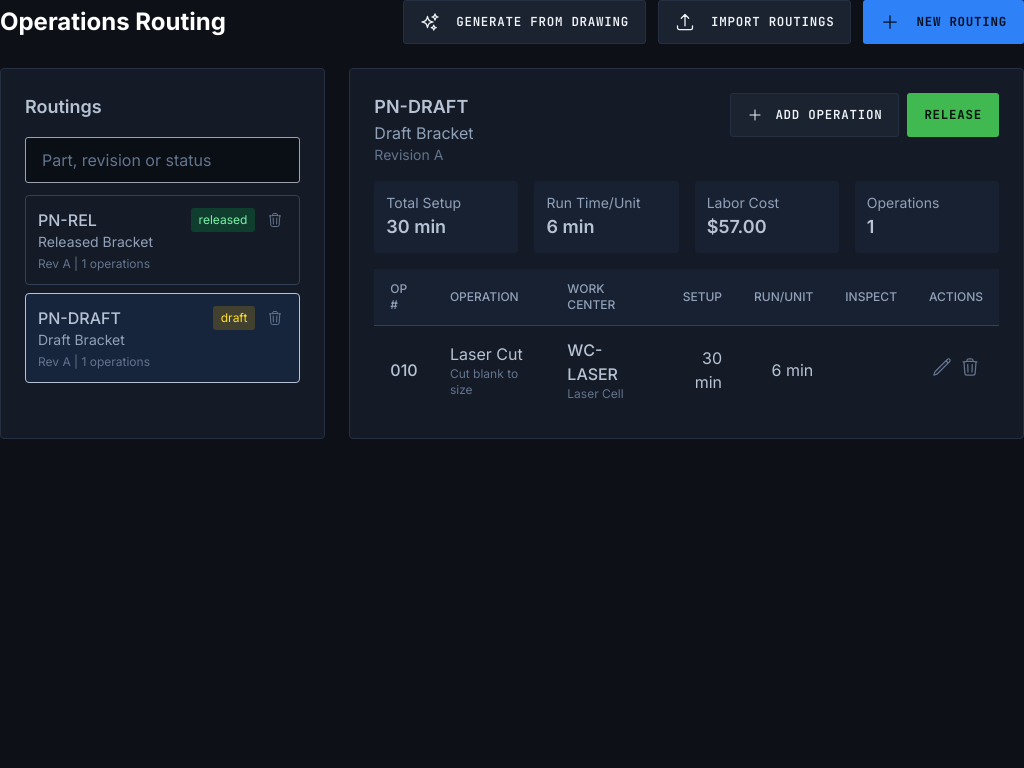
it: Routing — released time-standard editing › draft routing still shows full Edit + Delete controls and the full modal
Expected: the text "Laser Cut" is shown, [450,342,535,366]
Expected: the button titled "Delete operation" is shown, [960,357,980,377]
Click the button titled "Edit operation" at (942, 367), box [932,357,952,377]
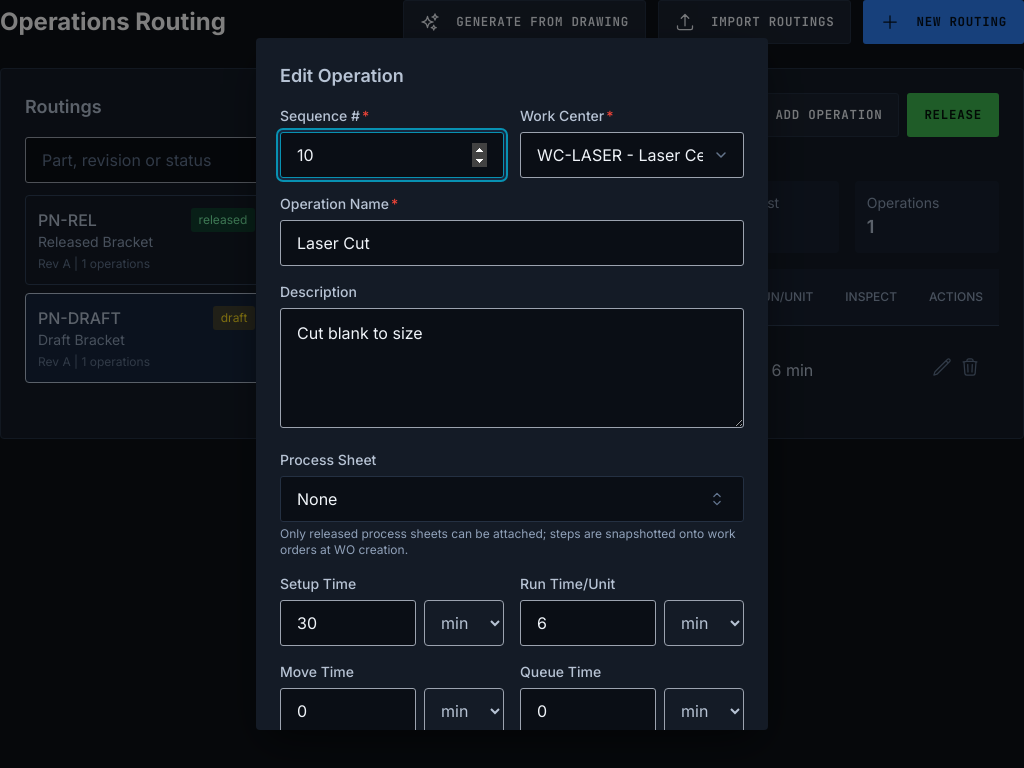
Result: the heading "Edit Operation" is shown at [280,65,404,86]
Result: the text "Work Center" is shown at [520,107,604,124]
Result: the text "Operation Name" is shown at [280,195,389,212]
